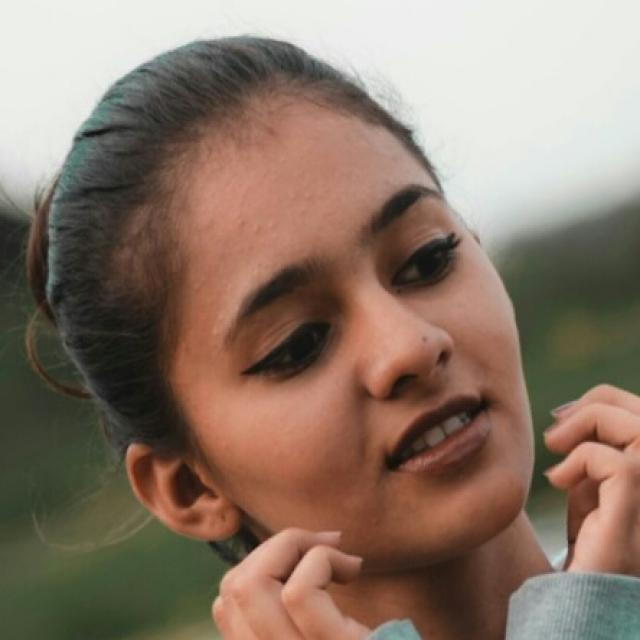front: (174, 147, 528, 524)
